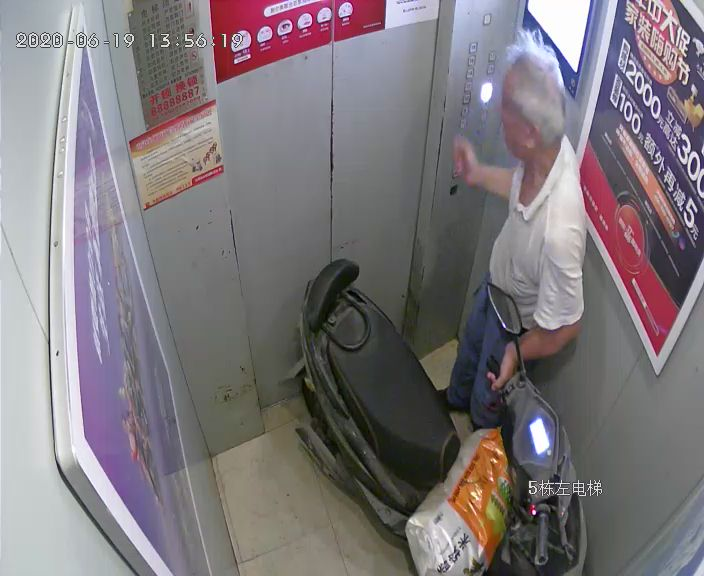Electric-bicycle: (308, 256, 581, 575)
